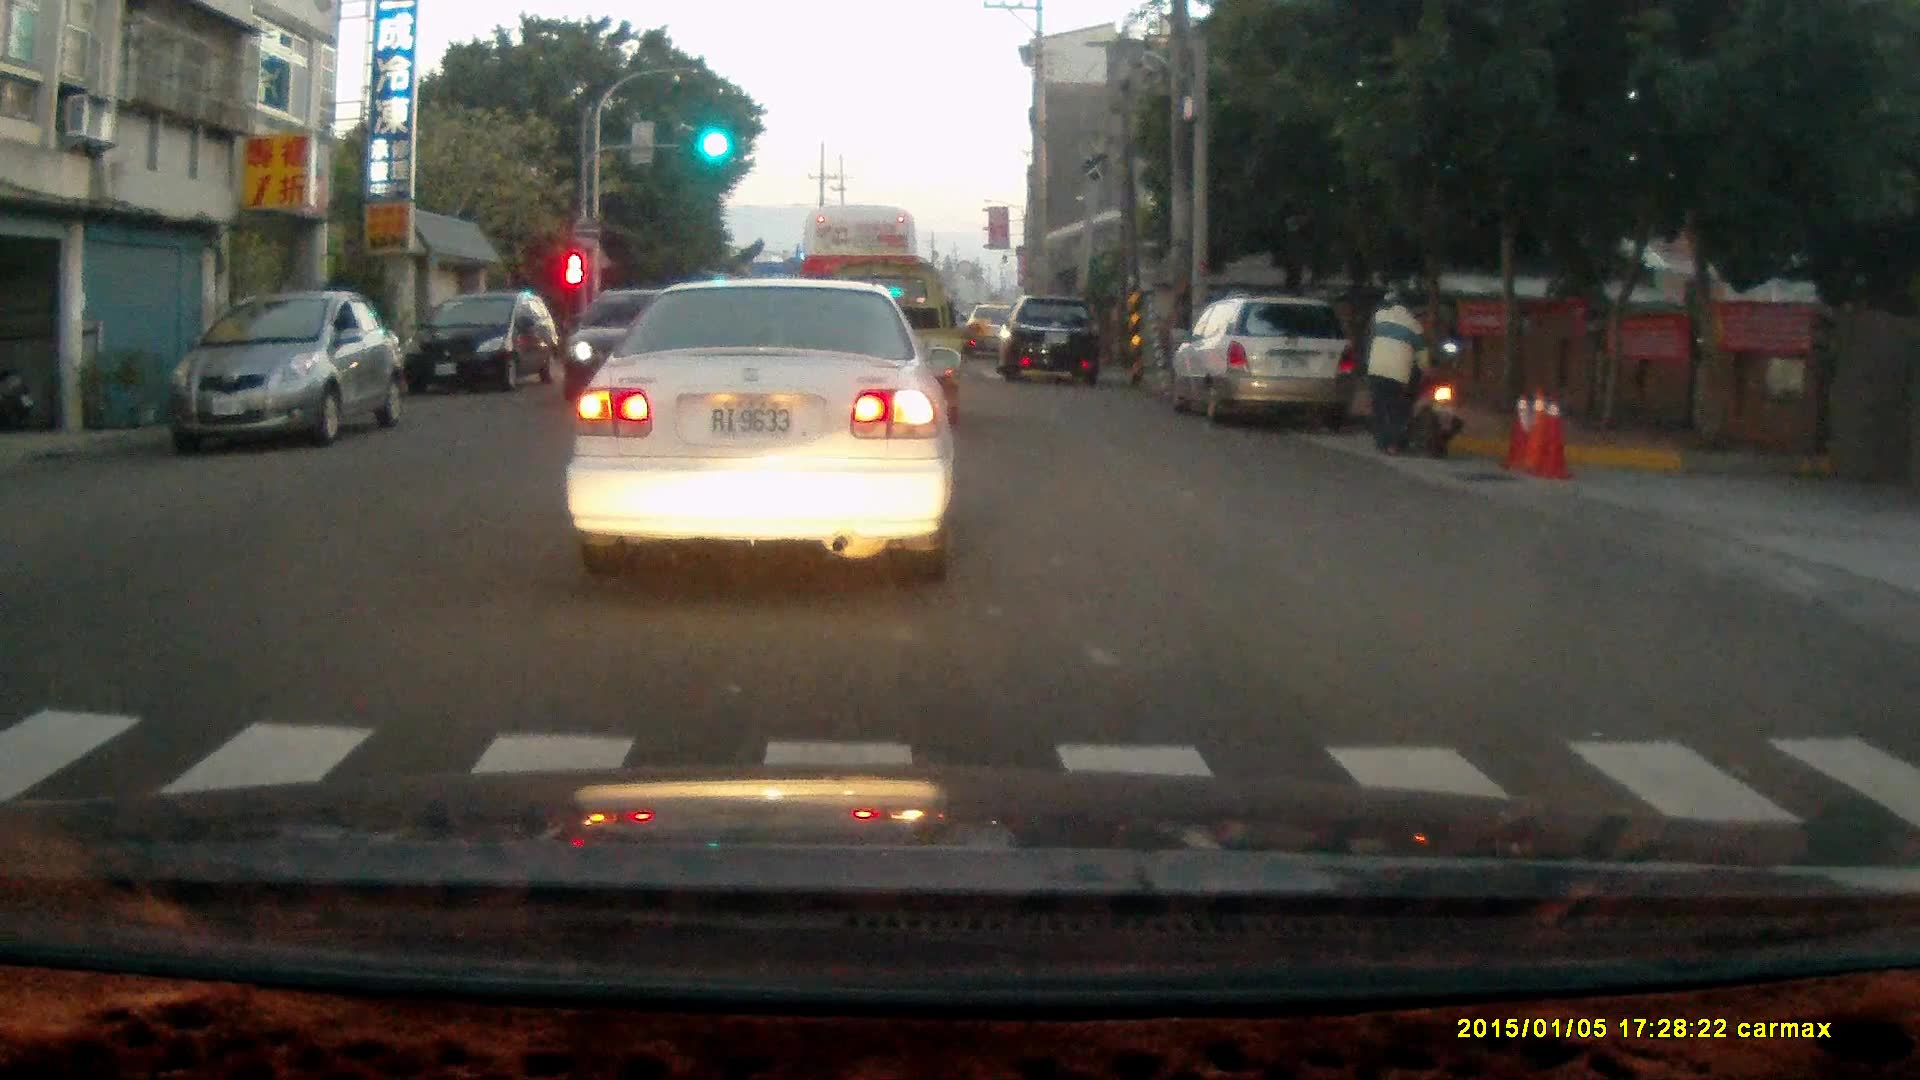pedestrian: (1364, 286, 1435, 457)
vehicle: (565, 274, 954, 579), (174, 293, 403, 453), (1177, 295, 1361, 424), (798, 206, 922, 381), (561, 286, 729, 410), (405, 292, 561, 404), (1004, 299, 1107, 389)
